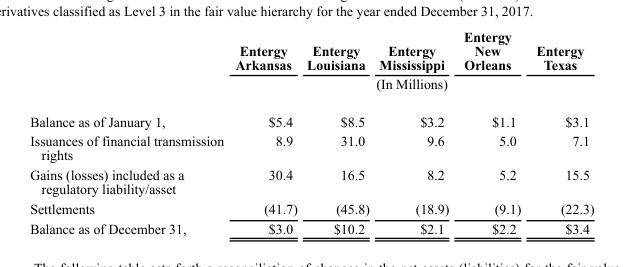table: (29, 28, 593, 236)
table column: (29, 28, 228, 236), (373, 28, 455, 236), (228, 28, 301, 236), (301, 28, 373, 236), (455, 28, 527, 236), (527, 28, 593, 236)
table column header: (29, 28, 593, 102)
table row: (29, 28, 593, 73), (29, 130, 593, 164), (29, 164, 593, 198), (29, 73, 593, 102), (29, 102, 593, 130), (29, 198, 593, 218), (29, 218, 593, 236)
table spanning cell: (228, 73, 593, 102)
